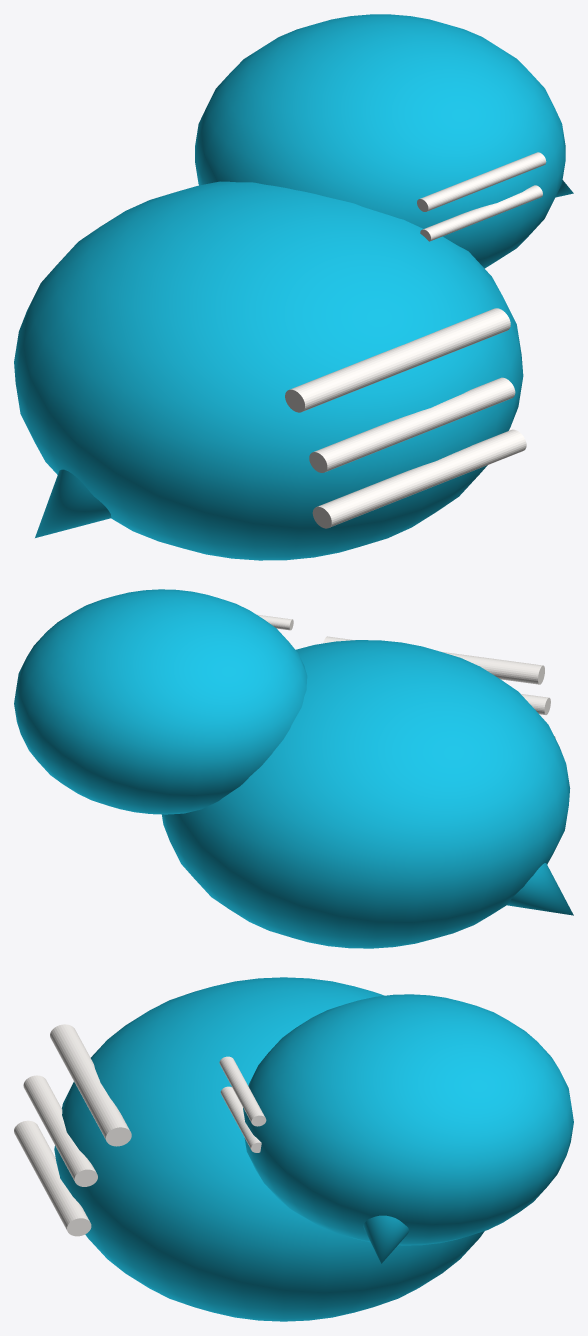
Rendered from messagemodel.glb.
3 views of the same model, one above another, from view 1: azimuth 30°, elevation 25°; view 2: azimuth 150°, elevation 25°; view 3: azimuth 270°, elevation 25° (orthographic). The views are drawn at different scales.
Parts seen in each view (by area): view 1: Sphere, Sphere.001, Cylinder, Cylinder.002, Cylinder.001, Cone, Cylinder.003, Cylinder.004; view 2: Sphere, Sphere.001, Cone, Cylinder; view 3: Sphere, Sphere.001, Cylinder, Cylinder.002, Cylinder.001, Cone.001, Cylinder.003, Cylinder.004.
Part boxes in pixels (bbox=[...]): Sphere: bbox=[14, 181, 523, 560]; Sphere.001: bbox=[195, 14, 565, 268]; Cylinder: bbox=[285, 308, 510, 412]; Cylinder.002: bbox=[312, 429, 526, 528]; Cylinder.001: bbox=[309, 377, 515, 472]; Cone: bbox=[35, 469, 111, 537]; Cylinder.003: bbox=[417, 152, 546, 211]; Cylinder.004: bbox=[420, 185, 542, 241]; Sphere: bbox=[161, 640, 570, 948]; Sphere.001: bbox=[14, 589, 307, 814]; Cone: bbox=[507, 863, 573, 915]; Cylinder: bbox=[323, 636, 544, 684]; Sphere: bbox=[54, 977, 484, 1321]; Sphere.001: bbox=[243, 994, 573, 1245]; Cylinder: bbox=[50, 1024, 131, 1146]; Cylinder.002: bbox=[14, 1120, 91, 1236]; Cylinder.001: bbox=[23, 1075, 97, 1186]; Cone.001: bbox=[363, 1215, 408, 1263]; Cylinder.003: bbox=[219, 1056, 266, 1126]; Cylinder.004: bbox=[220, 1086, 261, 1152].
Size of the model in its own units: 5.24 by 3.26 by 4.66.
